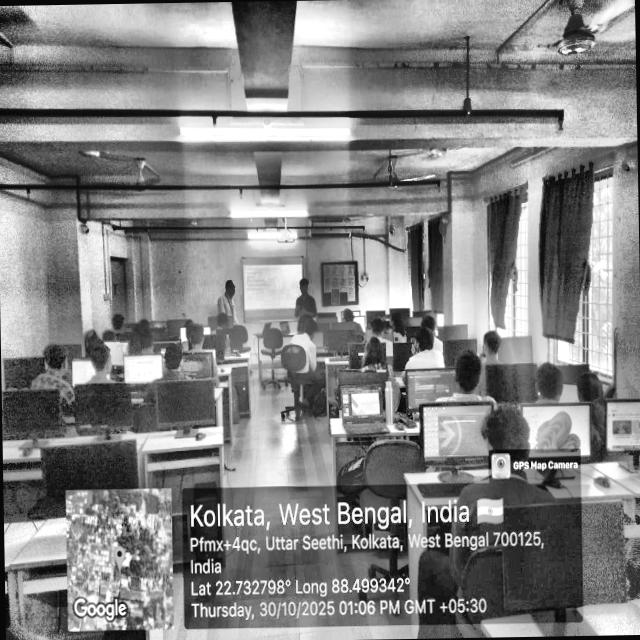Focus: (295, 300, 640, 569), (48, 323, 243, 430), (95, 298, 228, 385), (203, 273, 274, 355), (292, 264, 342, 351)
